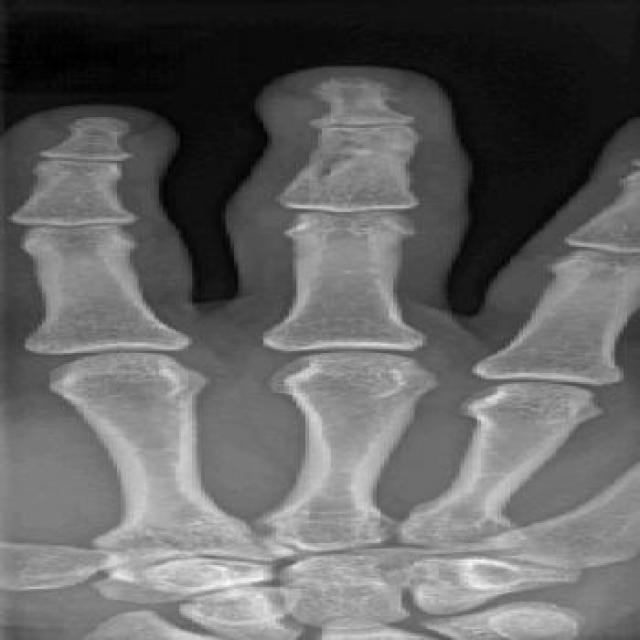Fracture: (282, 128, 412, 176)
